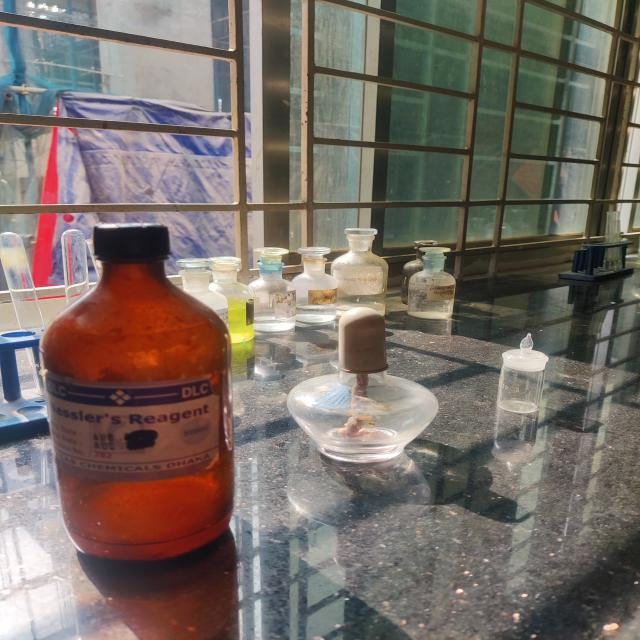Nessler_Reagent_Bottle: (28, 218, 269, 573)
Spirit_Lamp: (282, 301, 452, 475)
Weighing_Bottle: (489, 330, 555, 426)
